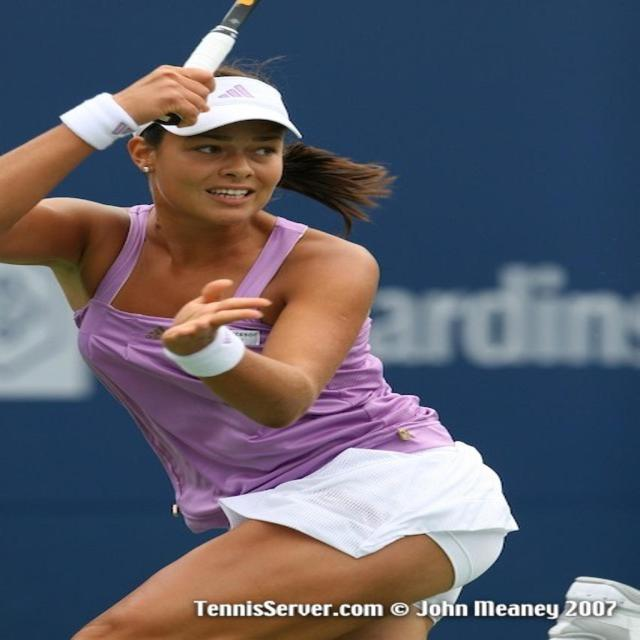Face: (139, 108, 285, 227)
